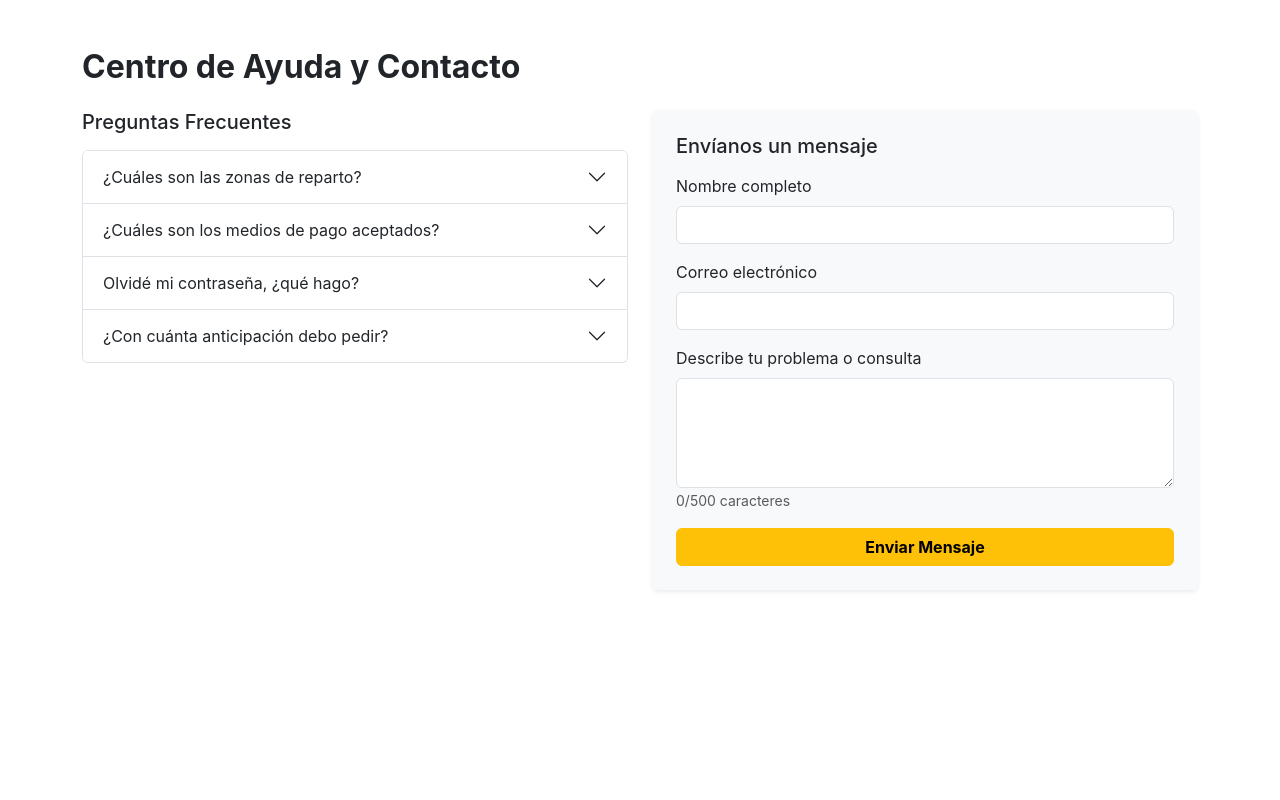
Test: Contact - renderizado condicional de errores › los mensajes de error aparecen solo al enviar el formulario inválido
Click the button "Enviar Mensaje" at x=925, y=547, box x1=676 y1=528 x2=1174 y2=566
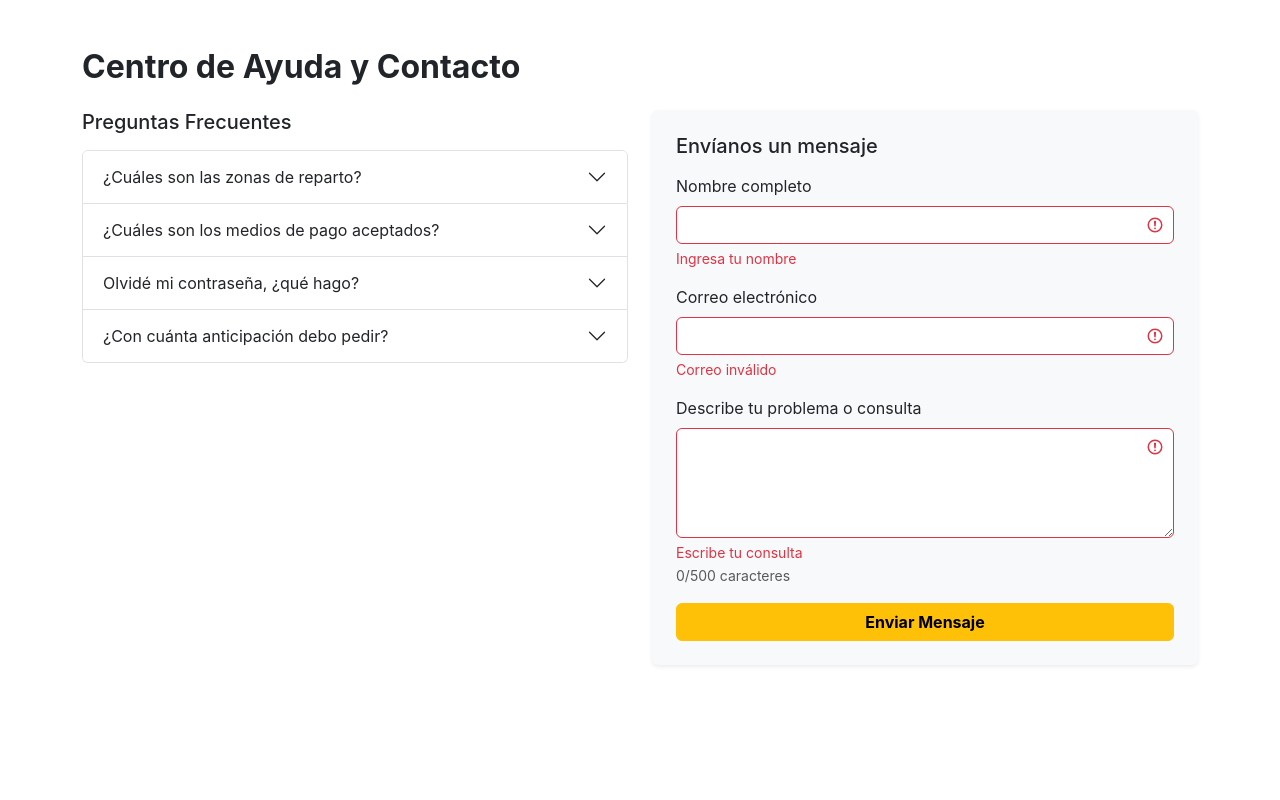
Now the text "Ingresa tu nombre" is shown, box x1=676 y1=250 x2=796 y2=267
Now the text "Correo inválido" is shown, box x1=676 y1=361 x2=776 y2=378
Now the text "Escribe tu consulta" is shown, box x1=676 y1=544 x2=802 y2=561
